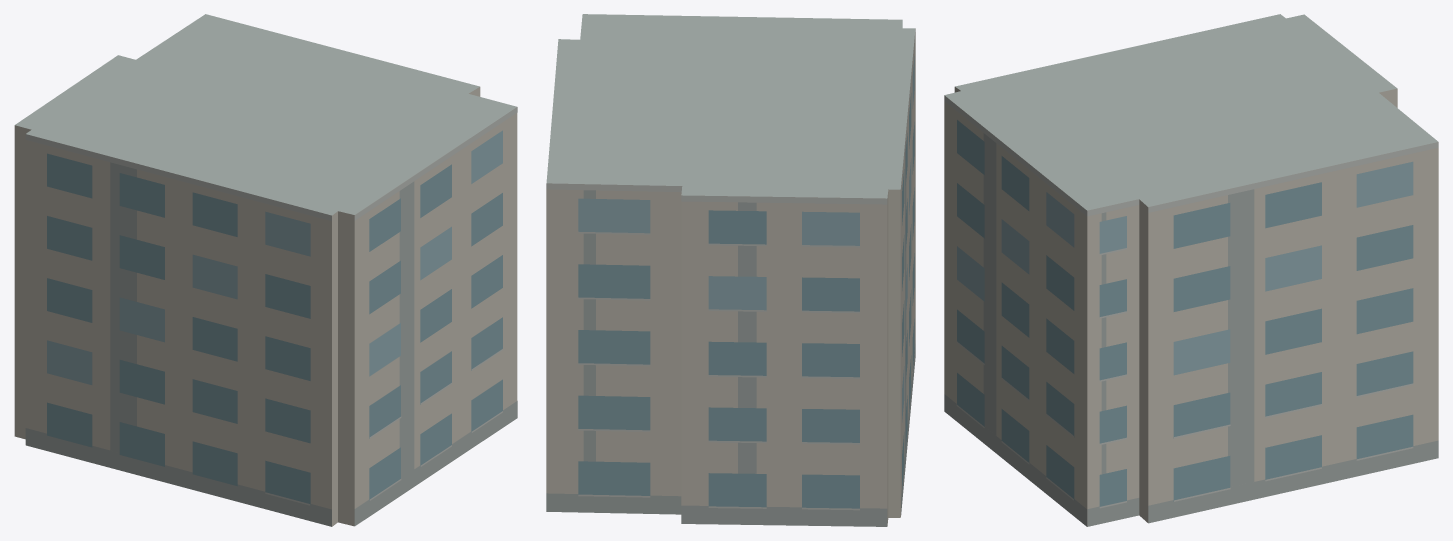
Rendered from survey-upis-32893703.glb.
The picture shows the model from 3 angles, left to right: view 1: azimuth 30°, elevation 25°; view 2: azimuth 150°, elevation 25°; view 3: azimuth 270°, elevation 25°; orthographic projection. The views are drawn at different scales.
Visible parts, largest first — view 1: survey-upis-32893703.tmp; view 2: survey-upis-32893703.tmp; view 3: survey-upis-32893703.tmp.
Boxes of the visible parts, left/top/right/bottom form: survey-upis-32893703.tmp: left=14, top=14, right=517, bottom=526; survey-upis-32893703.tmp: left=546, top=14, right=915, bottom=526; survey-upis-32893703.tmp: left=944, top=14, right=1438, bottom=526.
Bounding box in the file's own units: 17.61 × 13.2 × 18.71.
